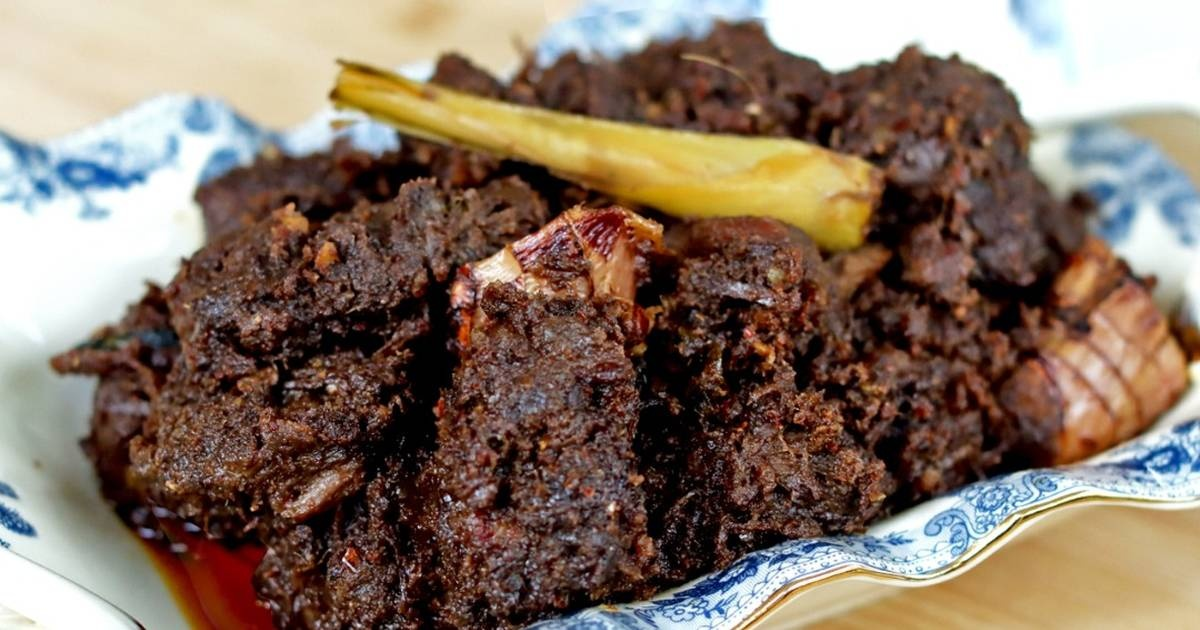rendang: (35, 181, 918, 569)
